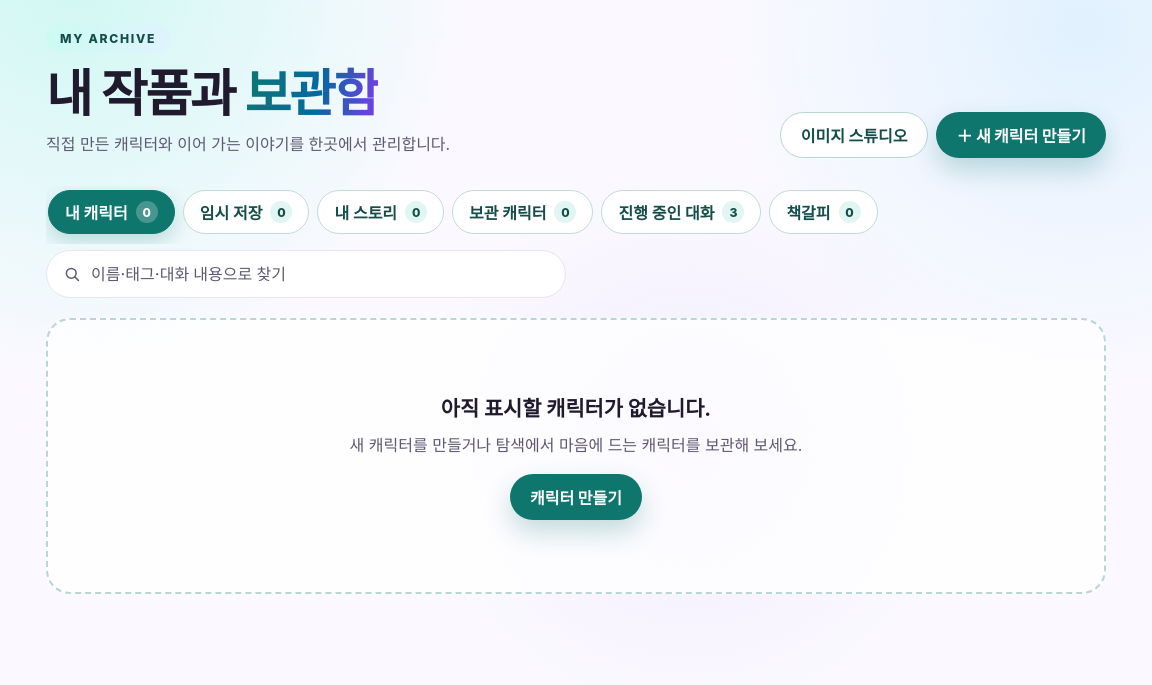
대화 목록과 보관함 검색 › 보관함은 지금 탭 안에서 이름과 대화 내용으로 찾는다
This screenshot has width=1152, height=685.
Click the tab "진행 중인 대화 3" at (681, 212), box top-left (602, 190), bottom-right (761, 234)
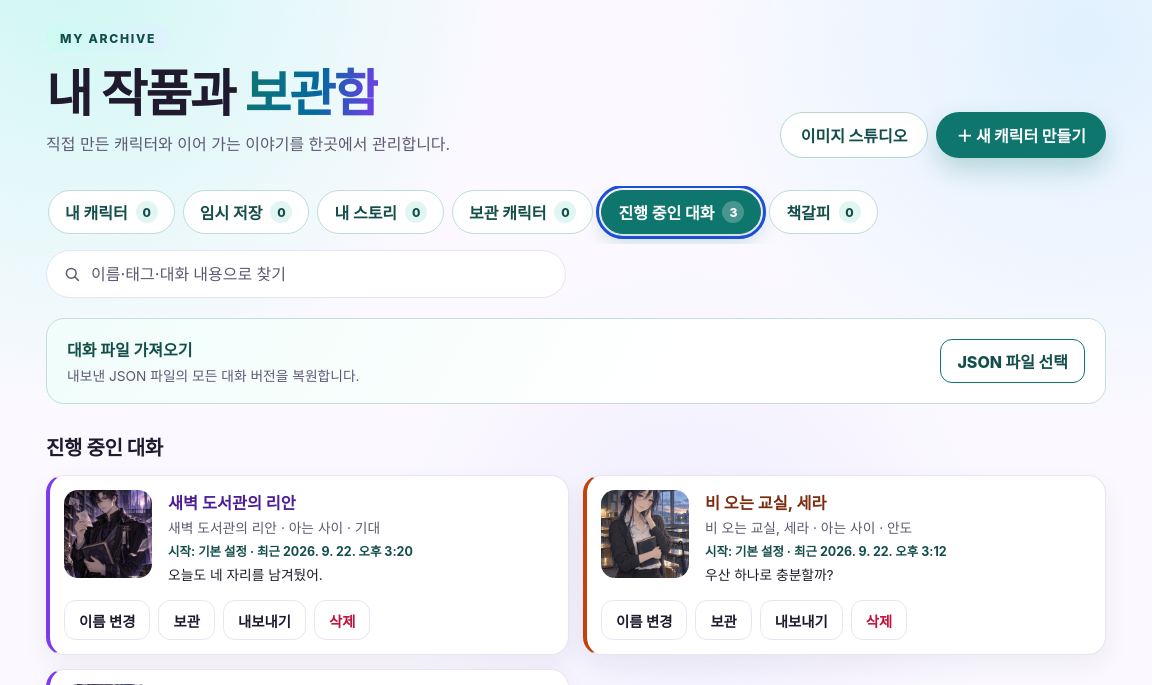
Type "우산" into the search field named "보관함 검색" at (320, 274), box top-left (91, 252), bottom-right (549, 296)
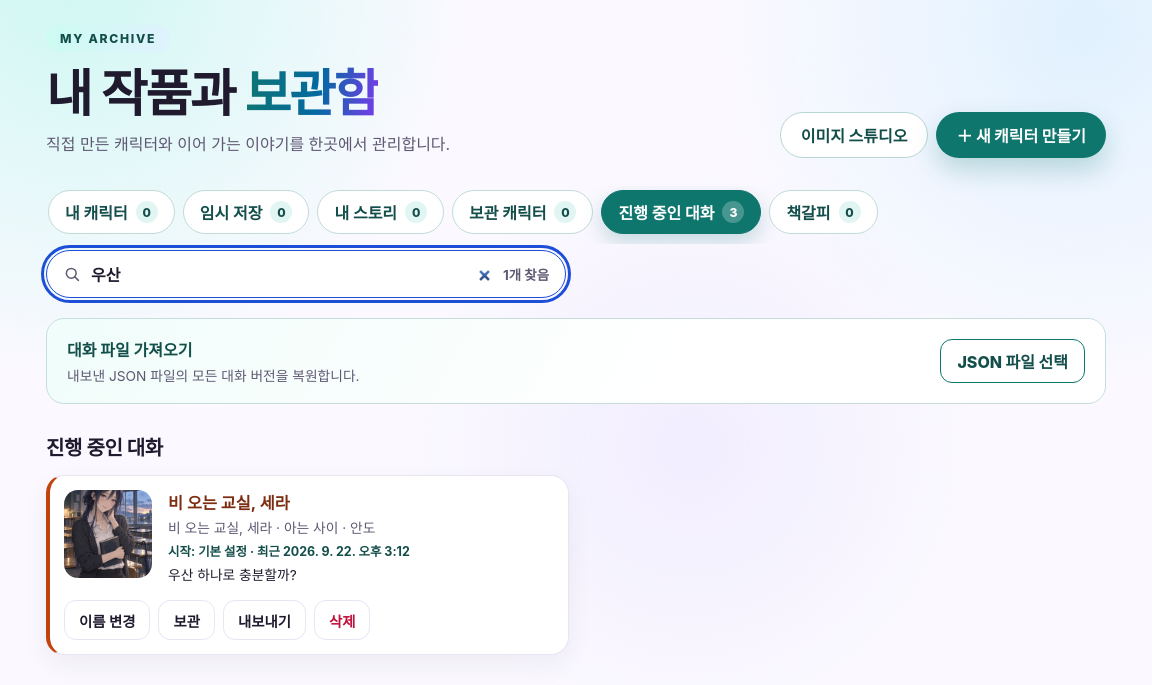
Expected: the panel shows "비 오는 교실, 세라", top-left (50, 476), bottom-right (568, 600)
Expected: the message named "찾은 수" reads "1개 찾음", top-left (503, 267), bottom-right (549, 283)
Expected: the panel no longer shows "달빛 기록관의 노아", top-left (46, 298), bottom-right (1106, 658)
Clear the search field named "보관함 검색" at (292, 274), box top-left (91, 252), bottom-right (493, 296)
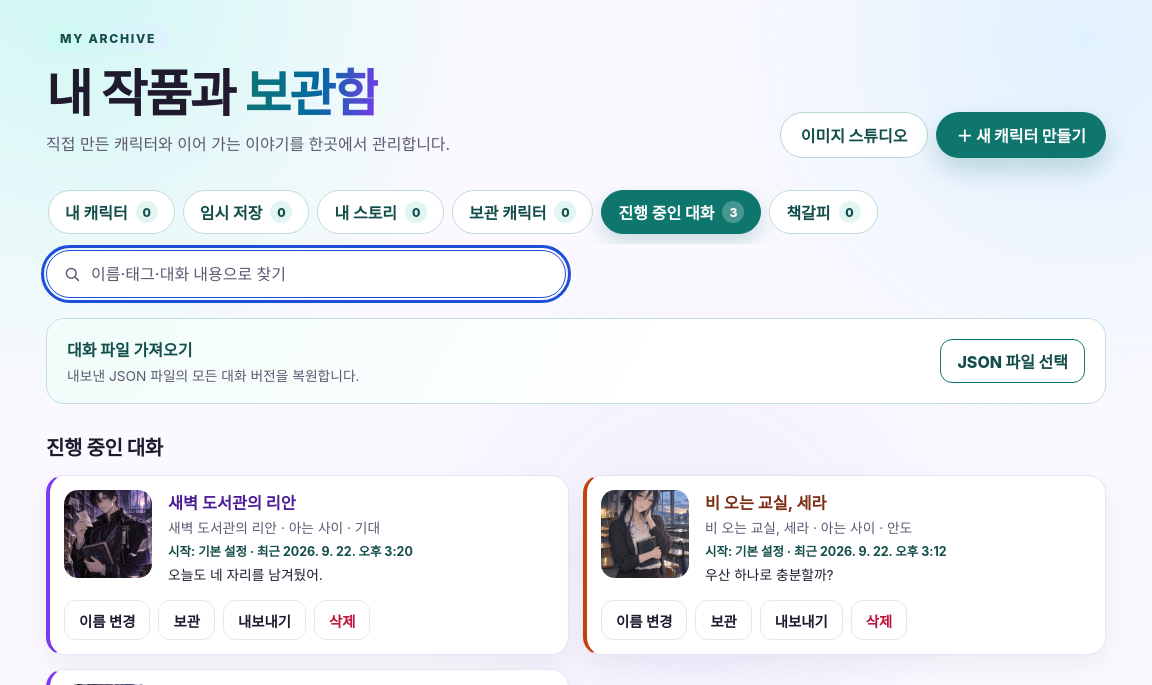
Type "없는말" into the search field named "보관함 검색" at (320, 274), box top-left (91, 252), bottom-right (549, 296)
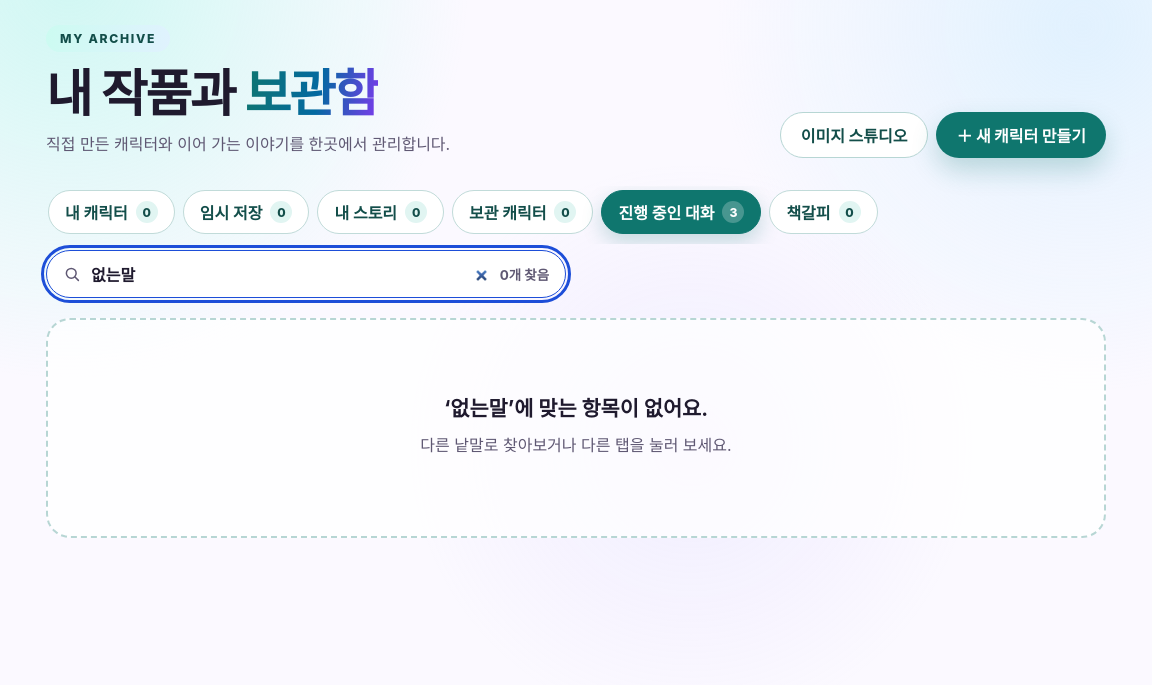
Expected: the panel shows "‘없는말’에 맞는 항목이 없어요.", top-left (444, 396), bottom-right (708, 421)
Clear the search field named "보관함 검색" at (290, 274), box top-left (91, 252), bottom-right (490, 296)
(page scrolled)
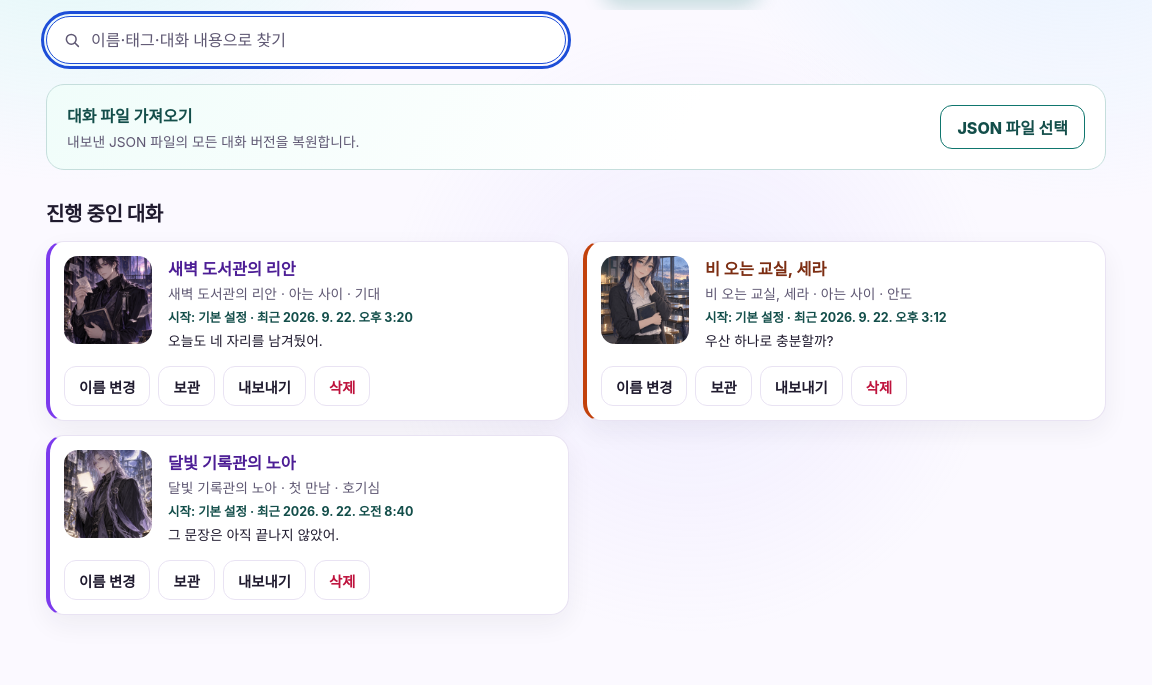
Expected: the panel shows "달빛 기록관의 노아", top-left (50, 436), bottom-right (568, 560)
